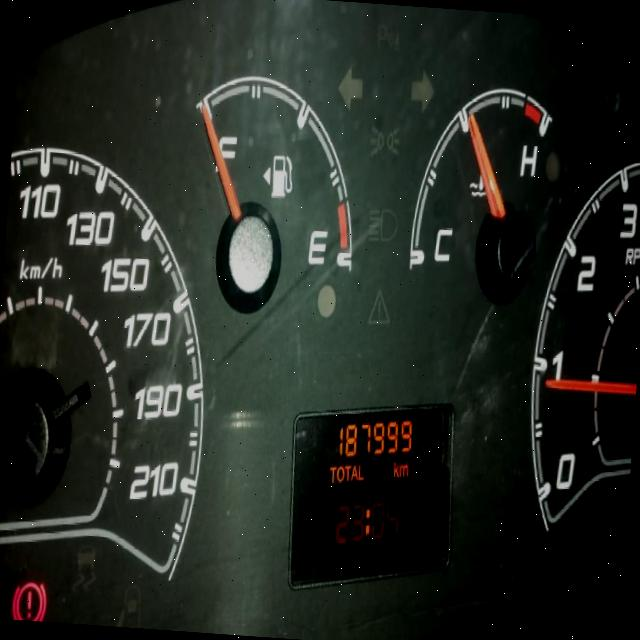odometer: (274, 386, 466, 602)
